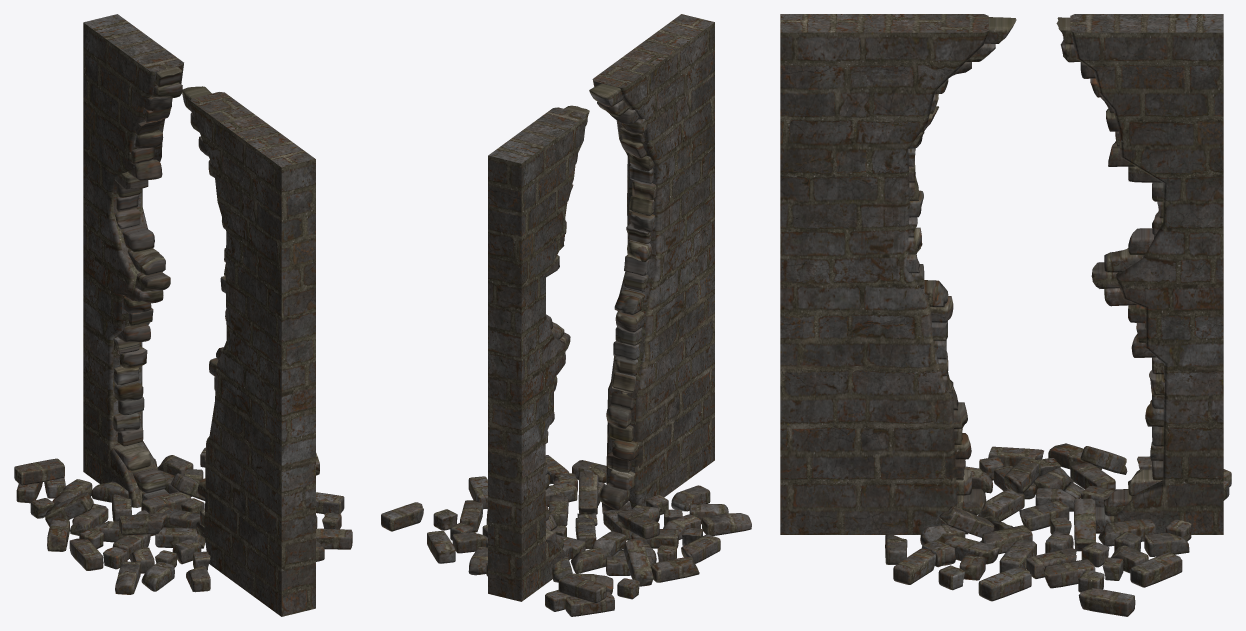
File: Basement_Corridor_A_Wall_Double_Sided_Broken_2m.glb
3 views of the same model, side by side, from view 1: azimuth 30°, elevation 25°; view 2: azimuth 150°, elevation 25°; view 3: azimuth 270°, elevation 25° (orthographic). The views are drawn at different scales.
Visible parts, largest first — view 1: Basement_Corridor_A_Wall_Double_Sided_Broken_2m, Brick_Debris_Ground, Brick_Debris_Wall; view 2: Basement_Corridor_A_Wall_Double_Sided_Broken_2m, Brick_Debris_Ground, Brick_Debris_Wall; view 3: Basement_Corridor_A_Wall_Double_Sided_Broken_2m, Brick_Debris_Ground, Brick_Debris_Wall.
Boxes of the visible parts, box(x1,y1,x2,y2) form: Basement_Corridor_A_Wall_Double_Sided_Broken_2m: box(83, 14, 315, 616); Brick_Debris_Ground: box(14, 447, 352, 594); Brick_Debris_Wall: box(113, 67, 226, 538); Basement_Corridor_A_Wall_Double_Sided_Broken_2m: box(488, 14, 714, 601); Brick_Debris_Ground: box(381, 455, 751, 616); Brick_Debris_Wall: box(545, 83, 656, 559); Basement_Corridor_A_Wall_Double_Sided_Broken_2m: box(780, 14, 1223, 534); Brick_Debris_Ground: box(885, 443, 1231, 616); Brick_Debris_Wall: box(906, 17, 1164, 534).
Size of the model in its own units: 1.72 by 2.51 by 2.04.
Materials: 1 (1 with a texture image).
